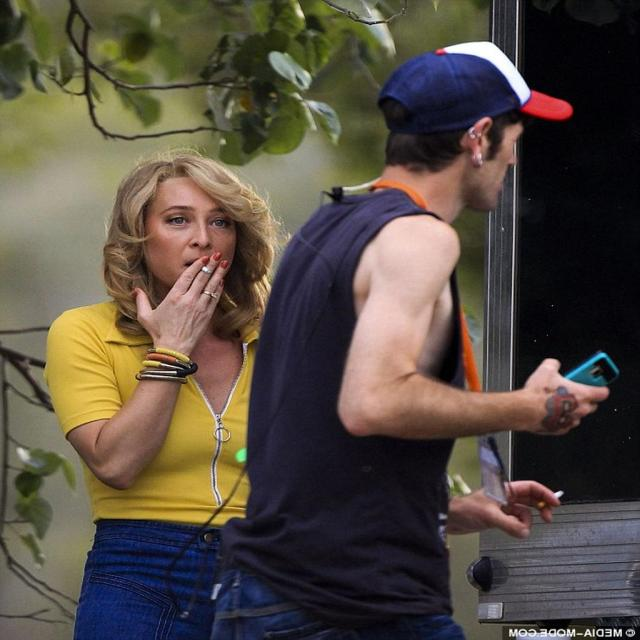smoking: (330, 30, 589, 572), (94, 130, 274, 379)
